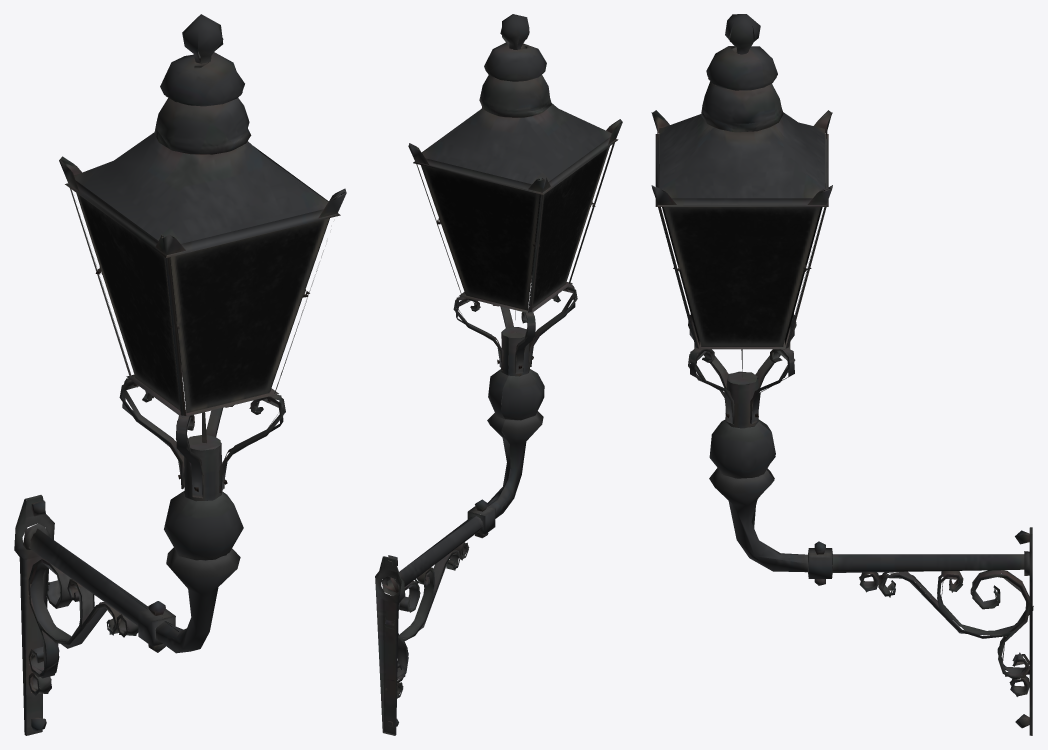
The model's file is street_lamp_02.glb.
3 renders of one model, left to right at view 1: azimuth 30°, elevation 25°; view 2: azimuth 150°, elevation 25°; view 3: azimuth 270°, elevation 25°, orthographic. The views are drawn at different scales.
Parts seen in each view (by area): view 1: street_lamp_02; view 2: street_lamp_02; view 3: street_lamp_02.
Boxes of the visible parts, x1,y1,x2,y2 form: street_lamp_02: [14, 14, 346, 735]; street_lamp_02: [375, 14, 622, 735]; street_lamp_02: [651, 14, 1033, 735].
Size of the model in its own units: 0.3839 by 1.68 by 0.8073.
Materials: 3 (3 with a texture image).
